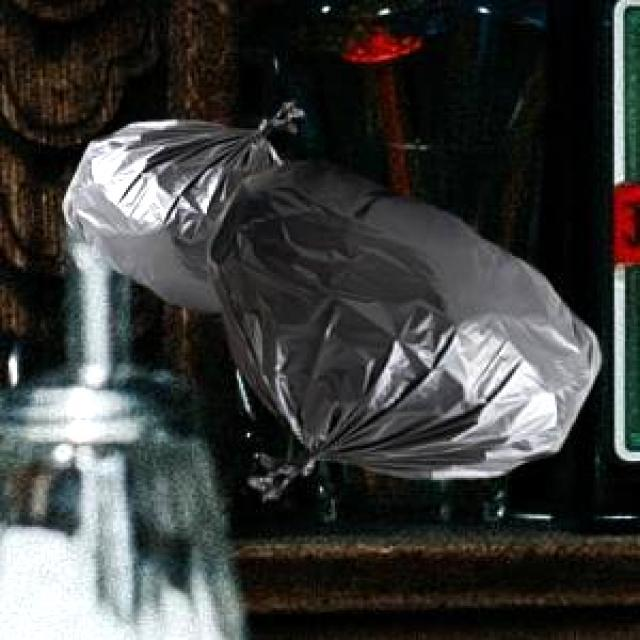Garbage_Bag: (204, 159, 598, 496), (61, 99, 302, 319)
